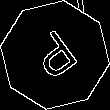P_SE: (25, 23, 85, 87)
